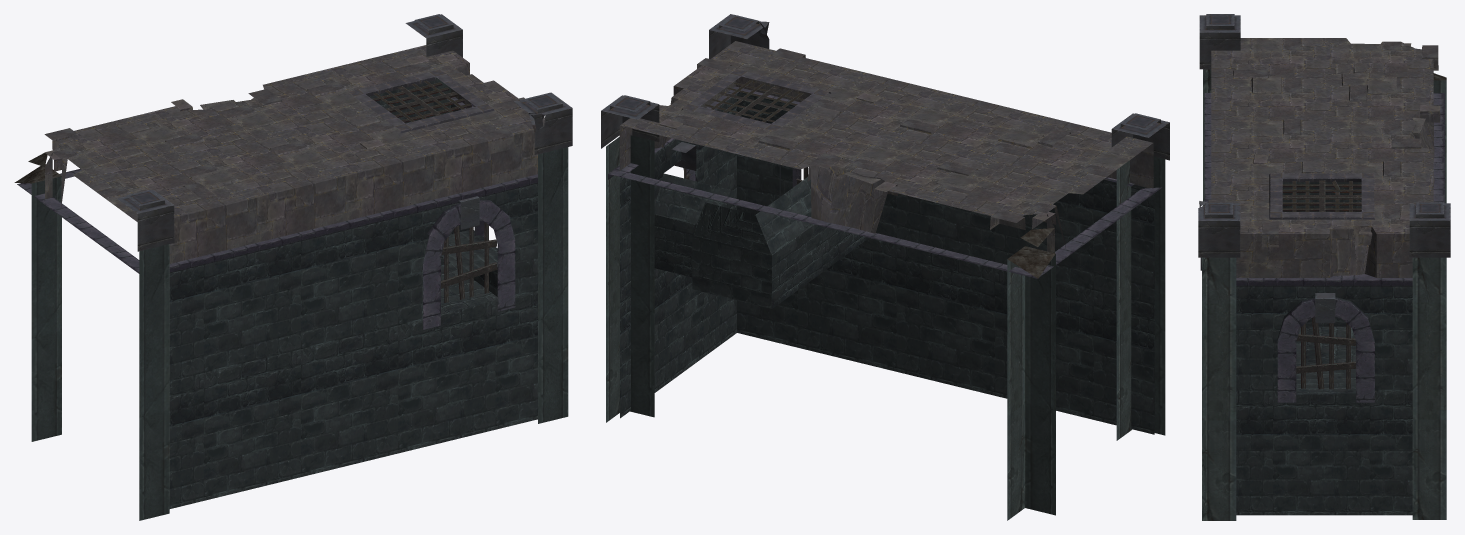
File: building_section02_guanka10C03.FBX
The picture shows the model from 3 angles, left to right: view 1: azimuth 30°, elevation 25°; view 2: azimuth 150°, elevation 25°; view 3: azimuth 270°, elevation 25°; orthographic projection. The views are drawn at different scales.
Parts seen in each view (by area): view 1: building_section02_guanka10C03; view 2: building_section02_guanka10C03; view 3: building_section02_guanka10C03.
Boxes of the visible parts, x1,y1,x2,y2 form: building_section02_guanka10C03: (14,14,572,520); building_section02_guanka10C03: (601,14,1169,520); building_section02_guanka10C03: (1198,14,1450,520).
Size of the model in its own units: 32.91 by 22.59 by 16.94.
